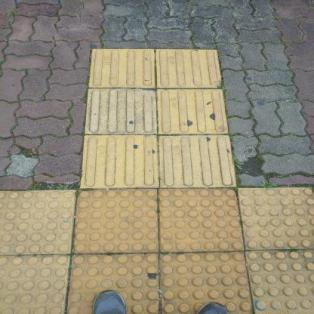Podoctatil: (0, 182, 313, 313), (72, 45, 250, 190)
